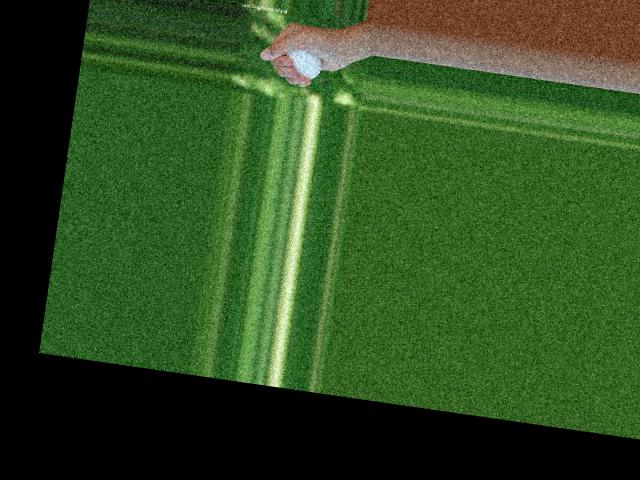egg: (282, 47, 322, 80)
